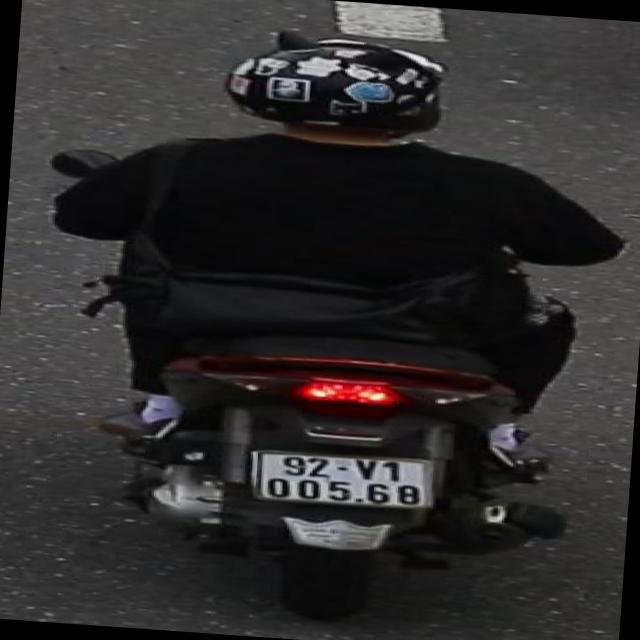LP: (242, 441, 446, 516)
helmet: (216, 24, 458, 156)
